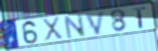6: (21, 20, 39, 45)
8: (109, 9, 129, 33)
N: (62, 13, 87, 40)
T: (131, 6, 148, 29)
V: (84, 10, 107, 36)
X: (42, 16, 65, 42)
